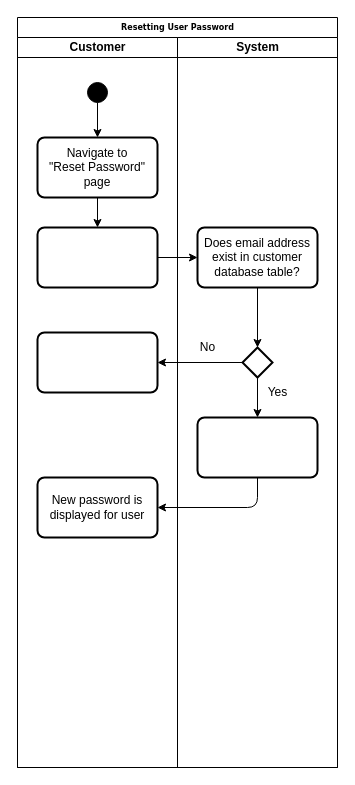
Some shapes in this 355 by 785 pixel diagram are drawn without their labels. The box of each missing label's shape, as (x1, y1, x2, y2) in pixels:
Enter email address: (36, 226, 158, 288)
Generate new random password for account: (196, 416, 318, 478)
User is alerted account does not exist: (36, 331, 158, 393)
